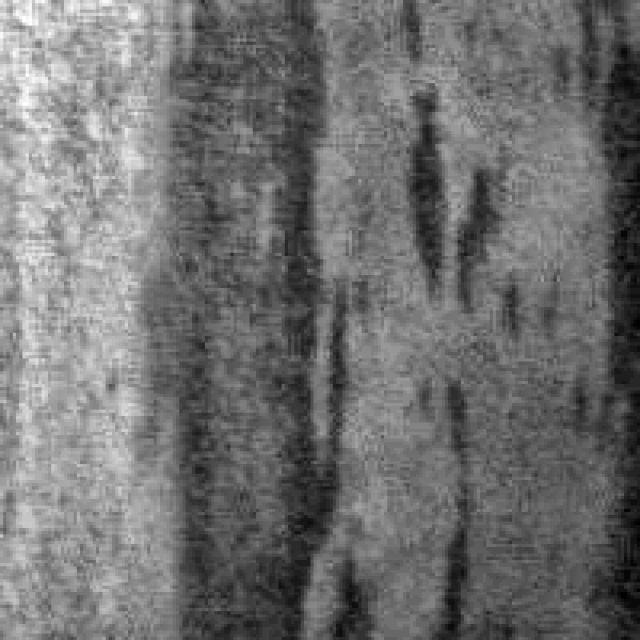Patches: (118, 3, 346, 627), (554, 0, 634, 483), (380, 6, 470, 317), (413, 364, 486, 634)
